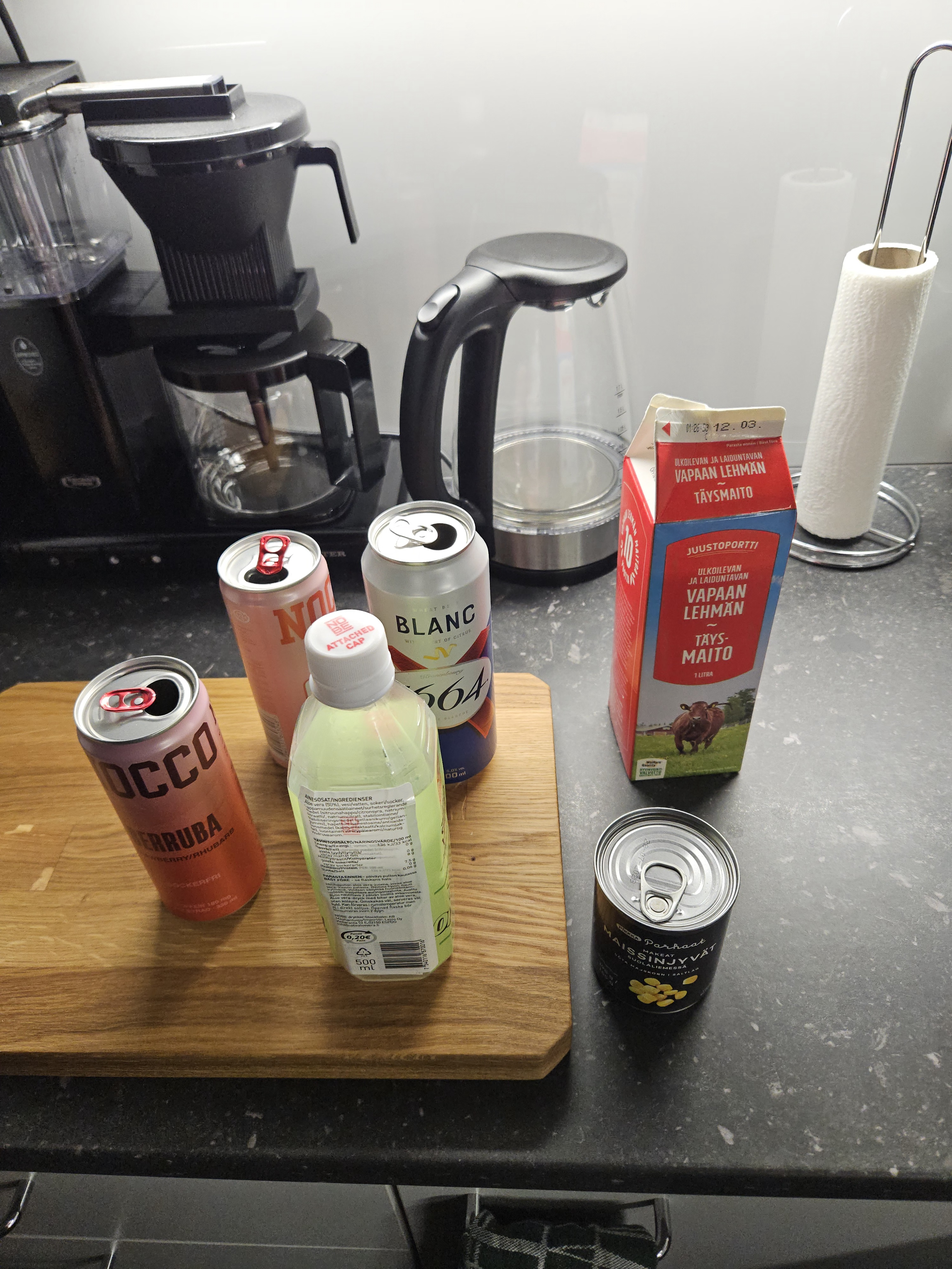Dryckeskartong: (606, 391, 807, 787)
Konservburk: (572, 796, 756, 1030)
Pantburk: (284, 607, 466, 982), (73, 655, 280, 927), (216, 527, 393, 786), (361, 497, 515, 790)
